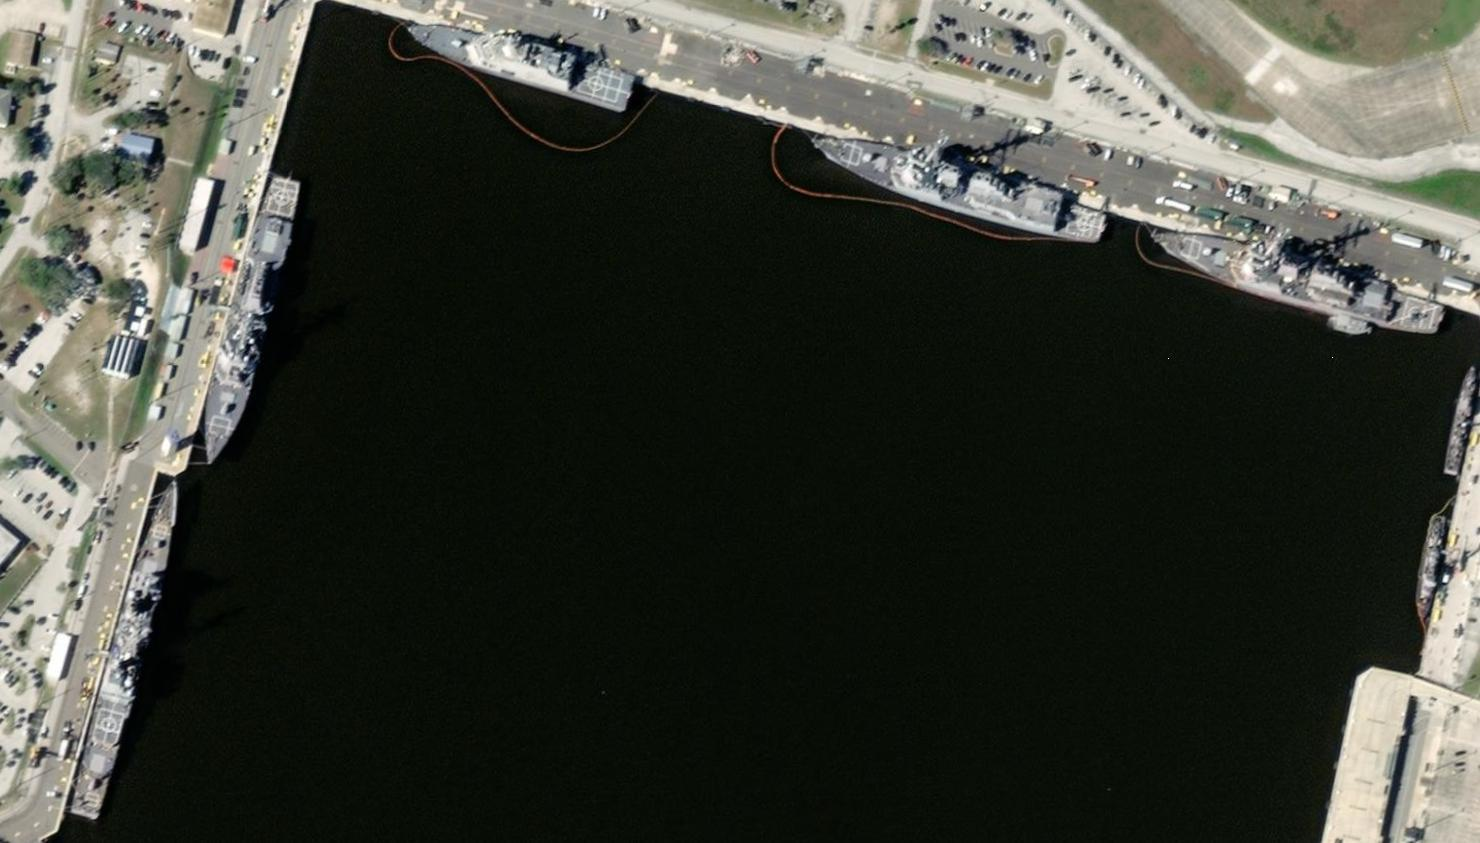destroyer: (67, 478, 184, 829)
fregate: (802, 122, 1115, 248), (1153, 210, 1451, 339), (201, 171, 305, 481)
patrol: (393, 12, 644, 122)
